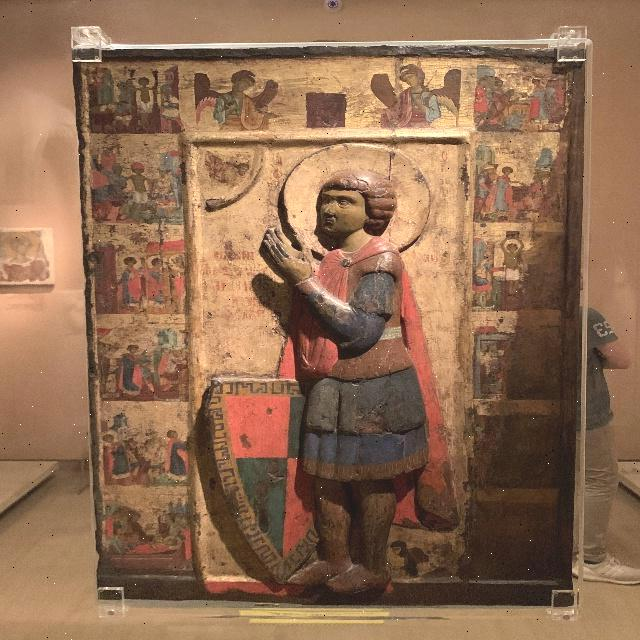angel: (193, 63, 282, 132), (377, 60, 467, 128)
aura: (282, 141, 432, 253), (500, 163, 521, 181)
saint: (205, 141, 443, 591), (485, 162, 518, 220)
shield: (208, 368, 338, 584)
st_george: (199, 145, 440, 583)
